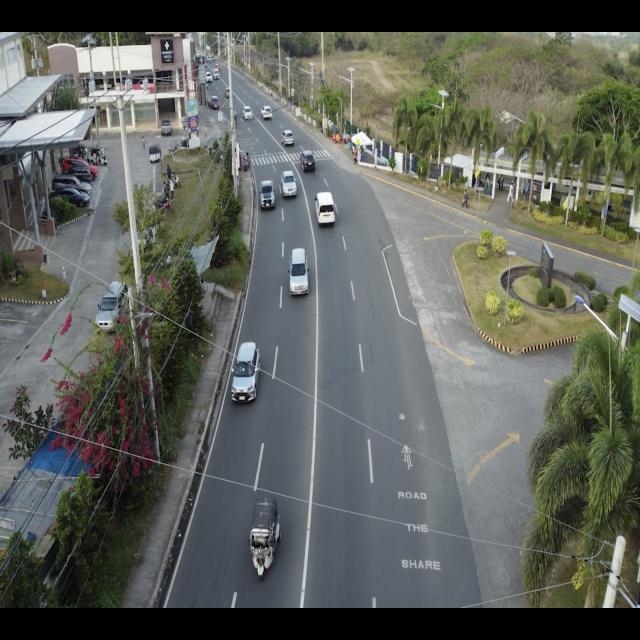car: (229, 341, 262, 404), (92, 280, 129, 333), (286, 246, 310, 297), (51, 173, 93, 198), (61, 156, 98, 181), (51, 188, 93, 209), (314, 190, 336, 226), (57, 165, 92, 186), (279, 169, 298, 199), (258, 180, 276, 210), (299, 148, 316, 174), (280, 130, 294, 148), (160, 117, 172, 135), (260, 104, 272, 121), (242, 105, 253, 121), (210, 95, 220, 111)
person: (507, 180, 515, 203), (169, 180, 175, 202), (462, 188, 468, 208), (165, 163, 172, 180), (353, 148, 359, 166)
